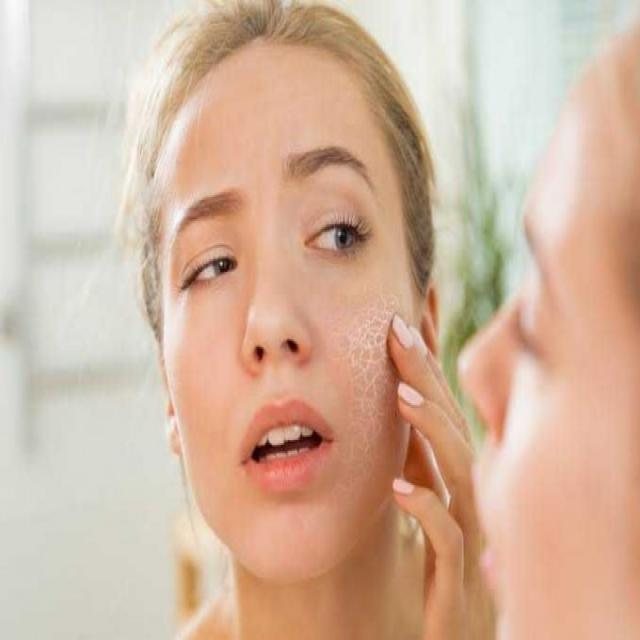dry: (344, 318, 392, 420)
